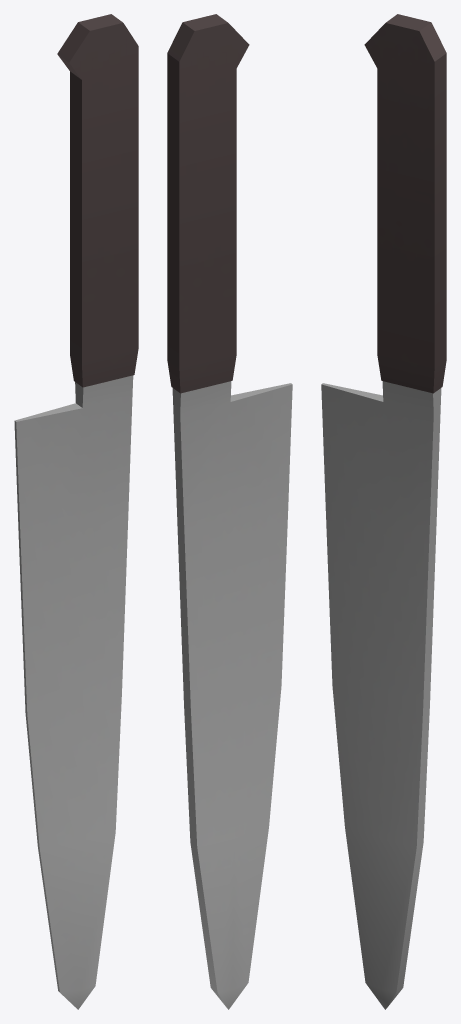
The model's file is Knife_E.fbx.
3 renders of one model, left to right at view 1: azimuth 30°, elevation 25°; view 2: azimuth 210°, elevation 25°; view 3: azimuth 330°, elevation 25°, orthographic.
Visible parts, largest first — view 1: Kit_1_Knife_E; view 2: Kit_1_Knife_E; view 3: Kit_1_Knife_E.
Boxes of the visible parts, box(x1,y1,x2,y2) form: Kit_1_Knife_E: box(14, 14, 138, 1009); Kit_1_Knife_E: box(167, 14, 292, 1009); Kit_1_Knife_E: box(321, 14, 446, 1009).
Bounding box in the file's own units: 3.54 × 28.37 × 0.6279.
